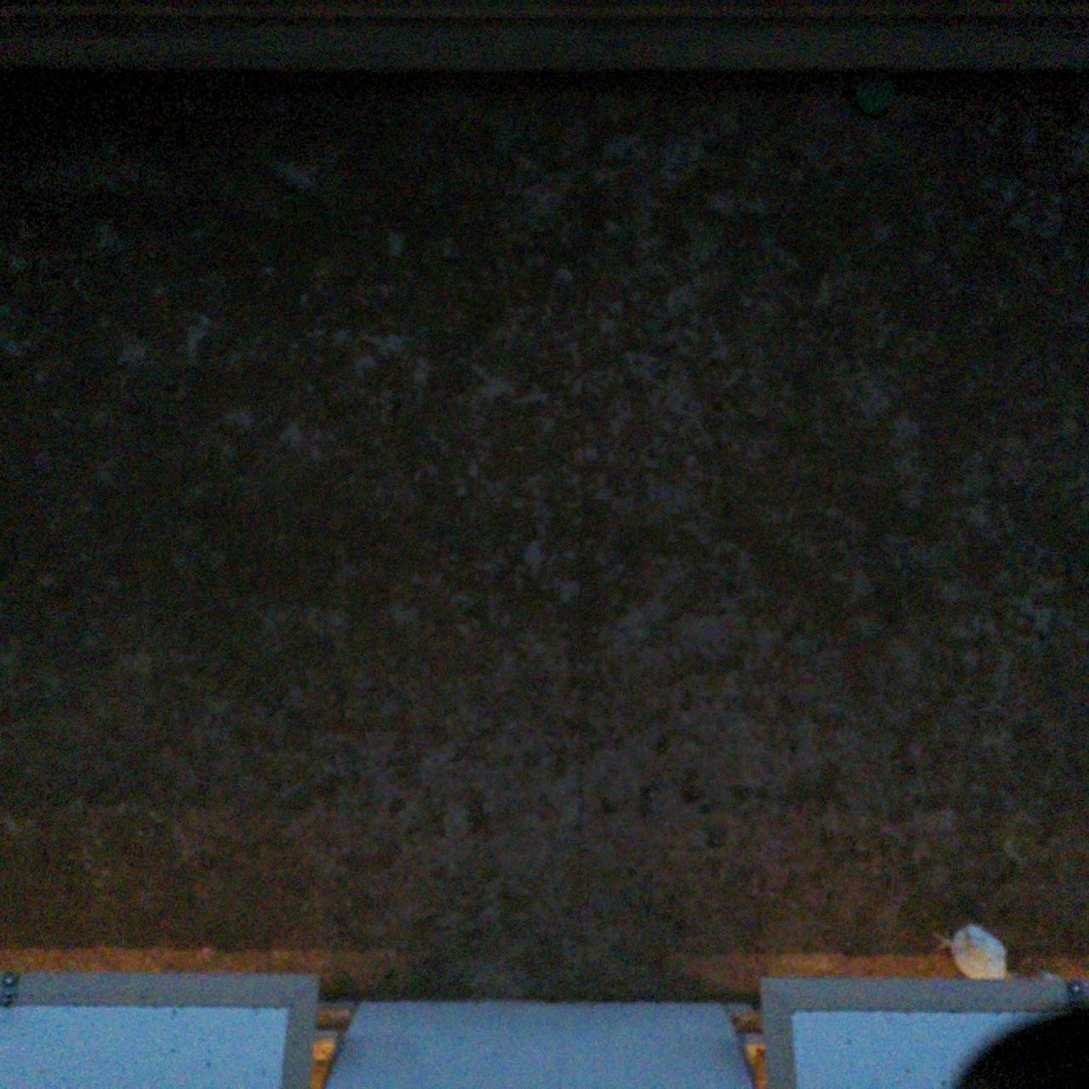chicken: (925, 916, 1015, 985)
